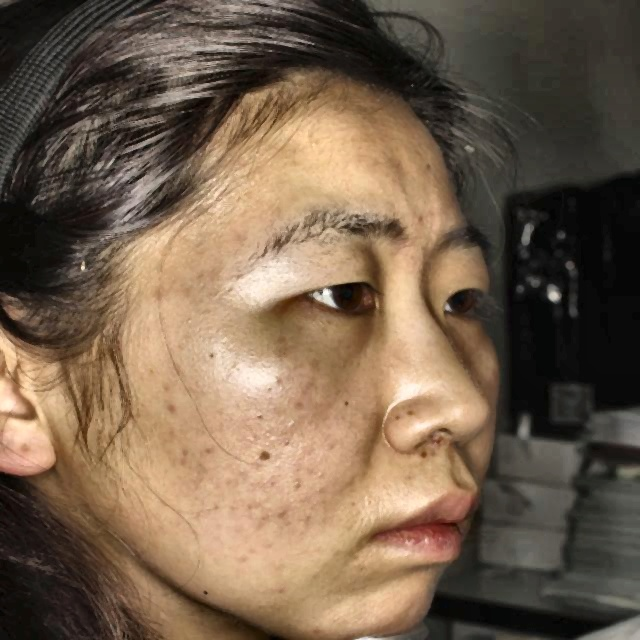comedone: (410, 435, 445, 462)
